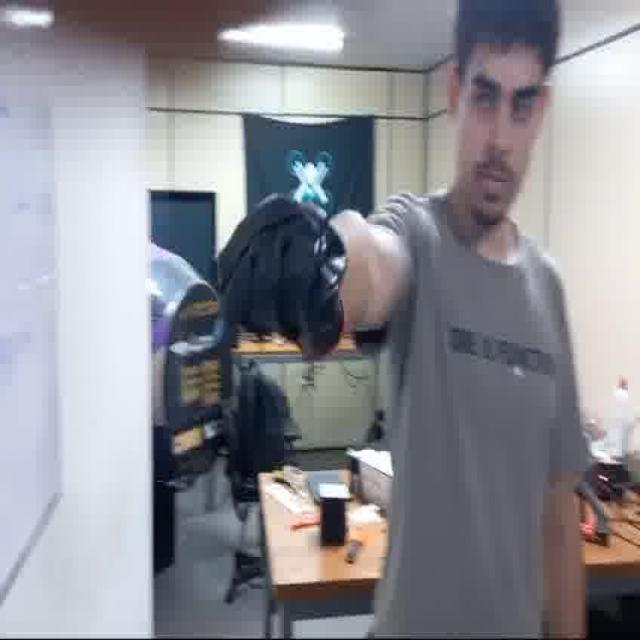Gloves: (220, 192, 346, 360)
